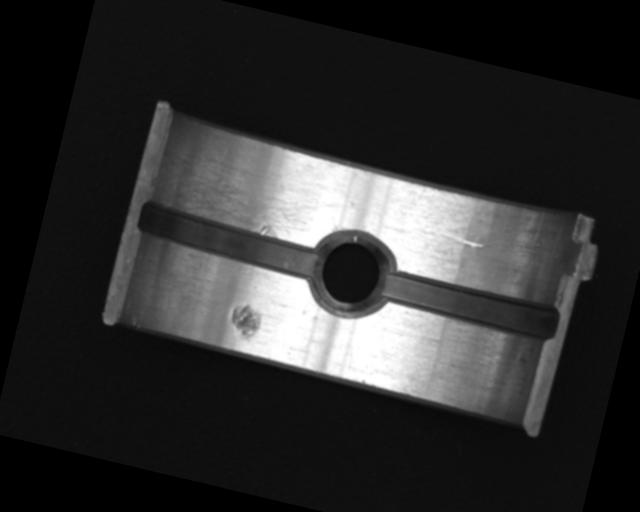bruise: (226, 300, 265, 343)
gap: (133, 197, 327, 283), (376, 263, 561, 343)
hole: (308, 223, 400, 325)
nick: (422, 224, 486, 250)
scratch: (156, 140, 339, 251)
